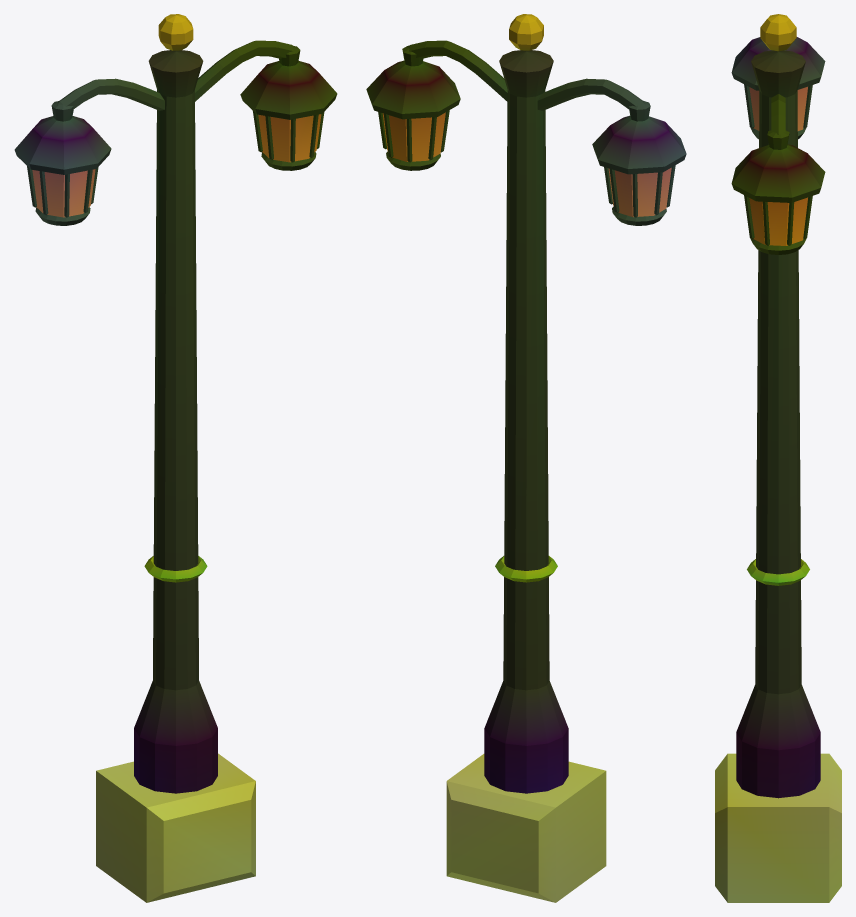
The model's file is GS_StreetLamp.fbx.
3 renders of one model, left to right at view 1: azimuth 30°, elevation 25°; view 2: azimuth 150°, elevation 25°; view 3: azimuth 270°, elevation 25°, orthographic.
Parts seen in each view (by area): view 1: GS_StreetLamp; view 2: GS_StreetLamp; view 3: GS_StreetLamp.
Boxes of the visible parts, <box> form: GS_StreetLamp: <box>14,14,337,902</box>; GS_StreetLamp: <box>366,14,686,902</box>; GS_StreetLamp: <box>715,14,841,902</box>.
Size of the model in its own units: 1.68 by 4.49 by 0.6.
